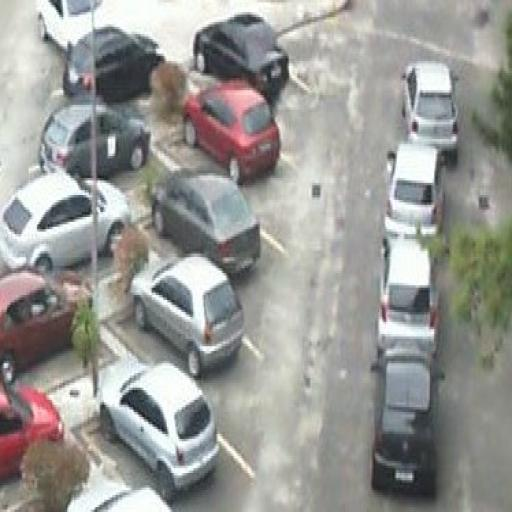car: (98, 356, 222, 505), (0, 166, 133, 280), (130, 254, 248, 382), (147, 163, 264, 290), (368, 342, 445, 502), (0, 263, 97, 388), (181, 76, 283, 190), (37, 98, 155, 186), (60, 22, 167, 112), (374, 239, 444, 368), (193, 10, 292, 100), (0, 375, 68, 490), (384, 142, 446, 251), (401, 58, 461, 166), (33, 0, 119, 56), (65, 470, 176, 512)
